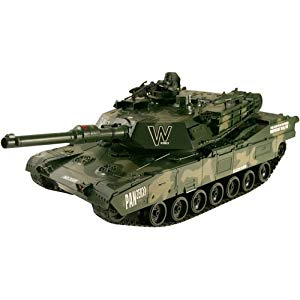Battle Tank: (9, 77, 298, 238)
